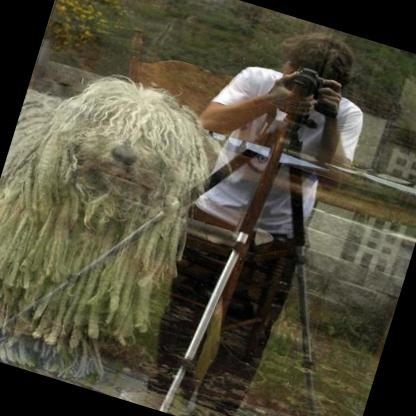komondor: (0, 48, 227, 401)
